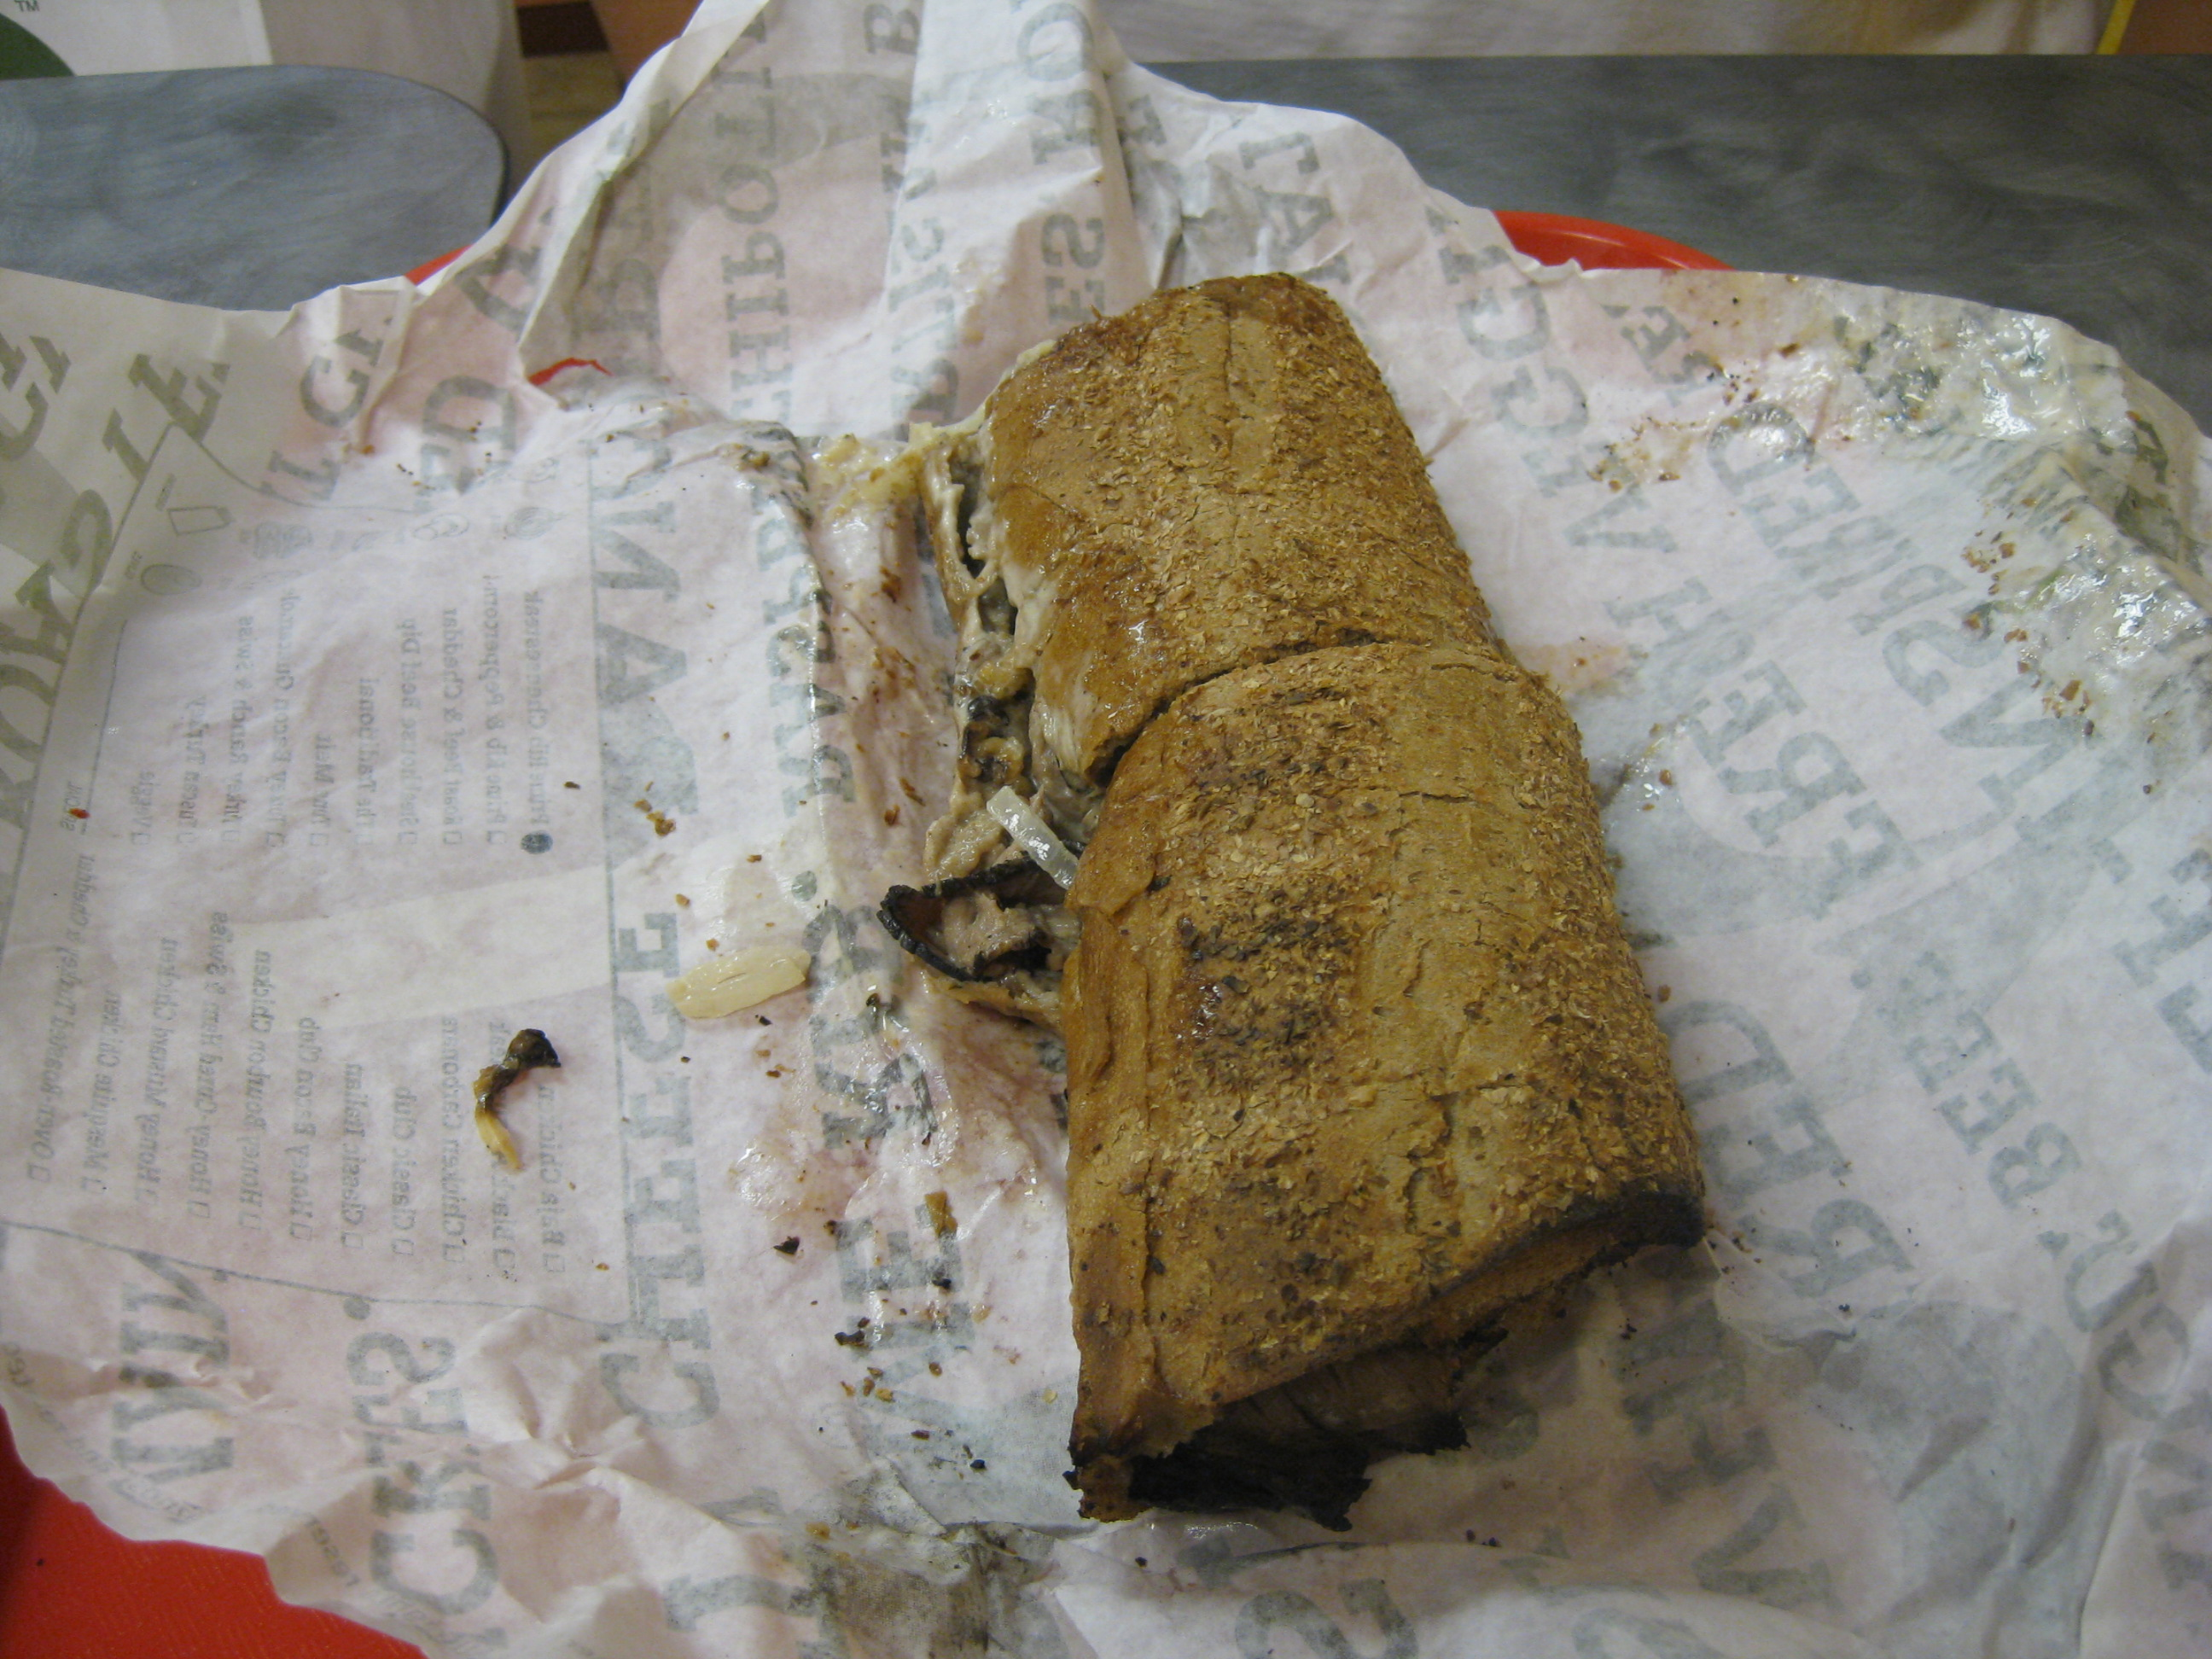sub: (904, 262, 1804, 1518)
